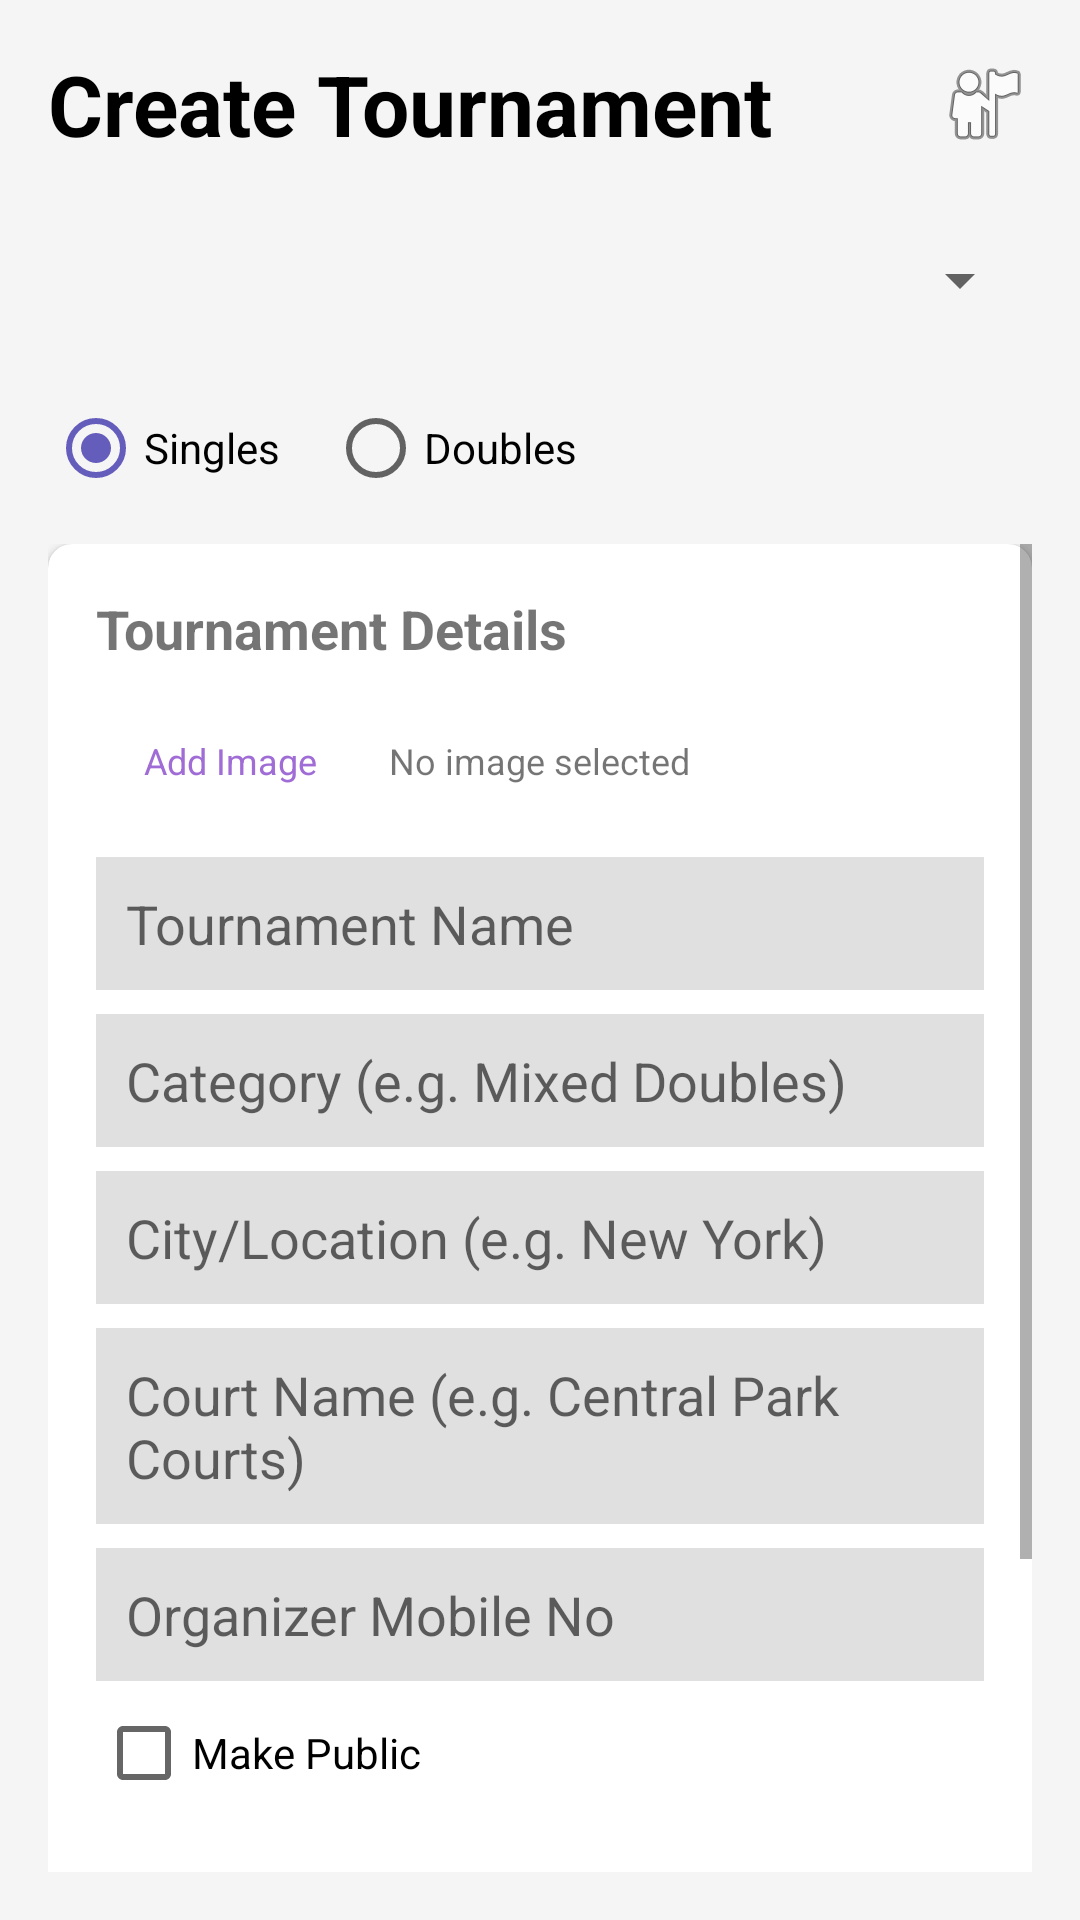

Where to tap for icons on this 1080 x 1920 app screen, as (x,y):
myplaces: (985,104)
